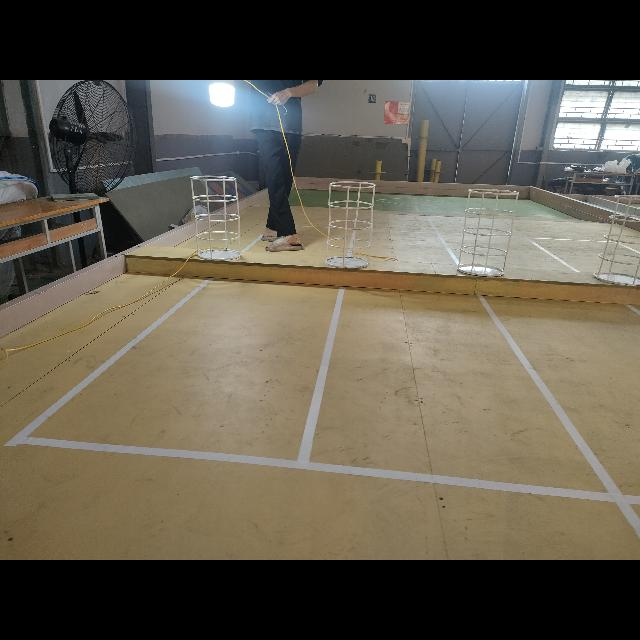S: (458, 185, 520, 279), (319, 180, 376, 276), (592, 191, 640, 289), (190, 173, 242, 263)
